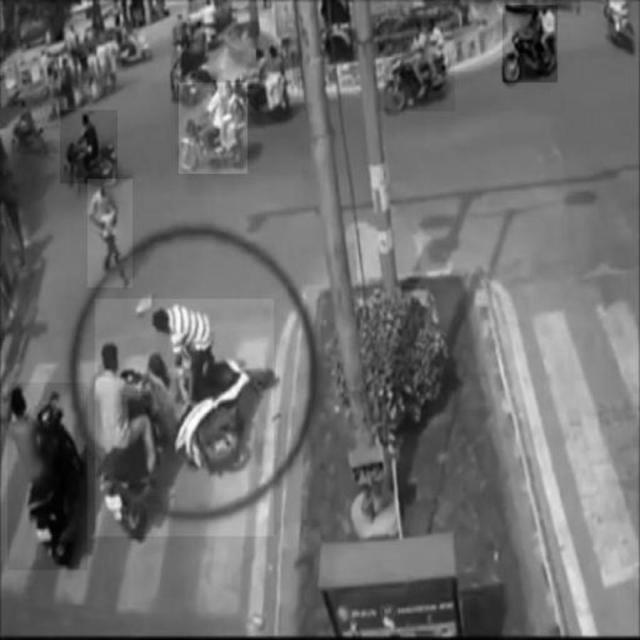accident: (95, 299, 273, 536)
person: (88, 179, 133, 287)
vehicle: (9, 383, 89, 570), (378, 18, 455, 110), (179, 83, 247, 174), (503, 6, 558, 83), (61, 111, 118, 184)
